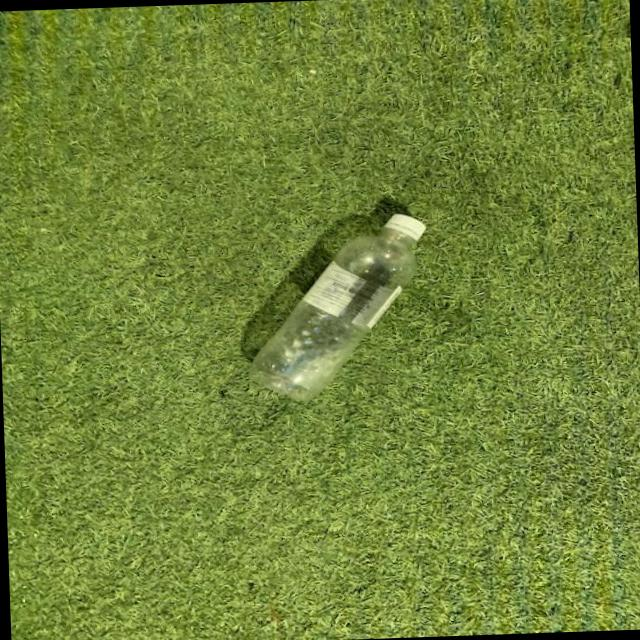BotolPlastik: (240, 210, 433, 406)
